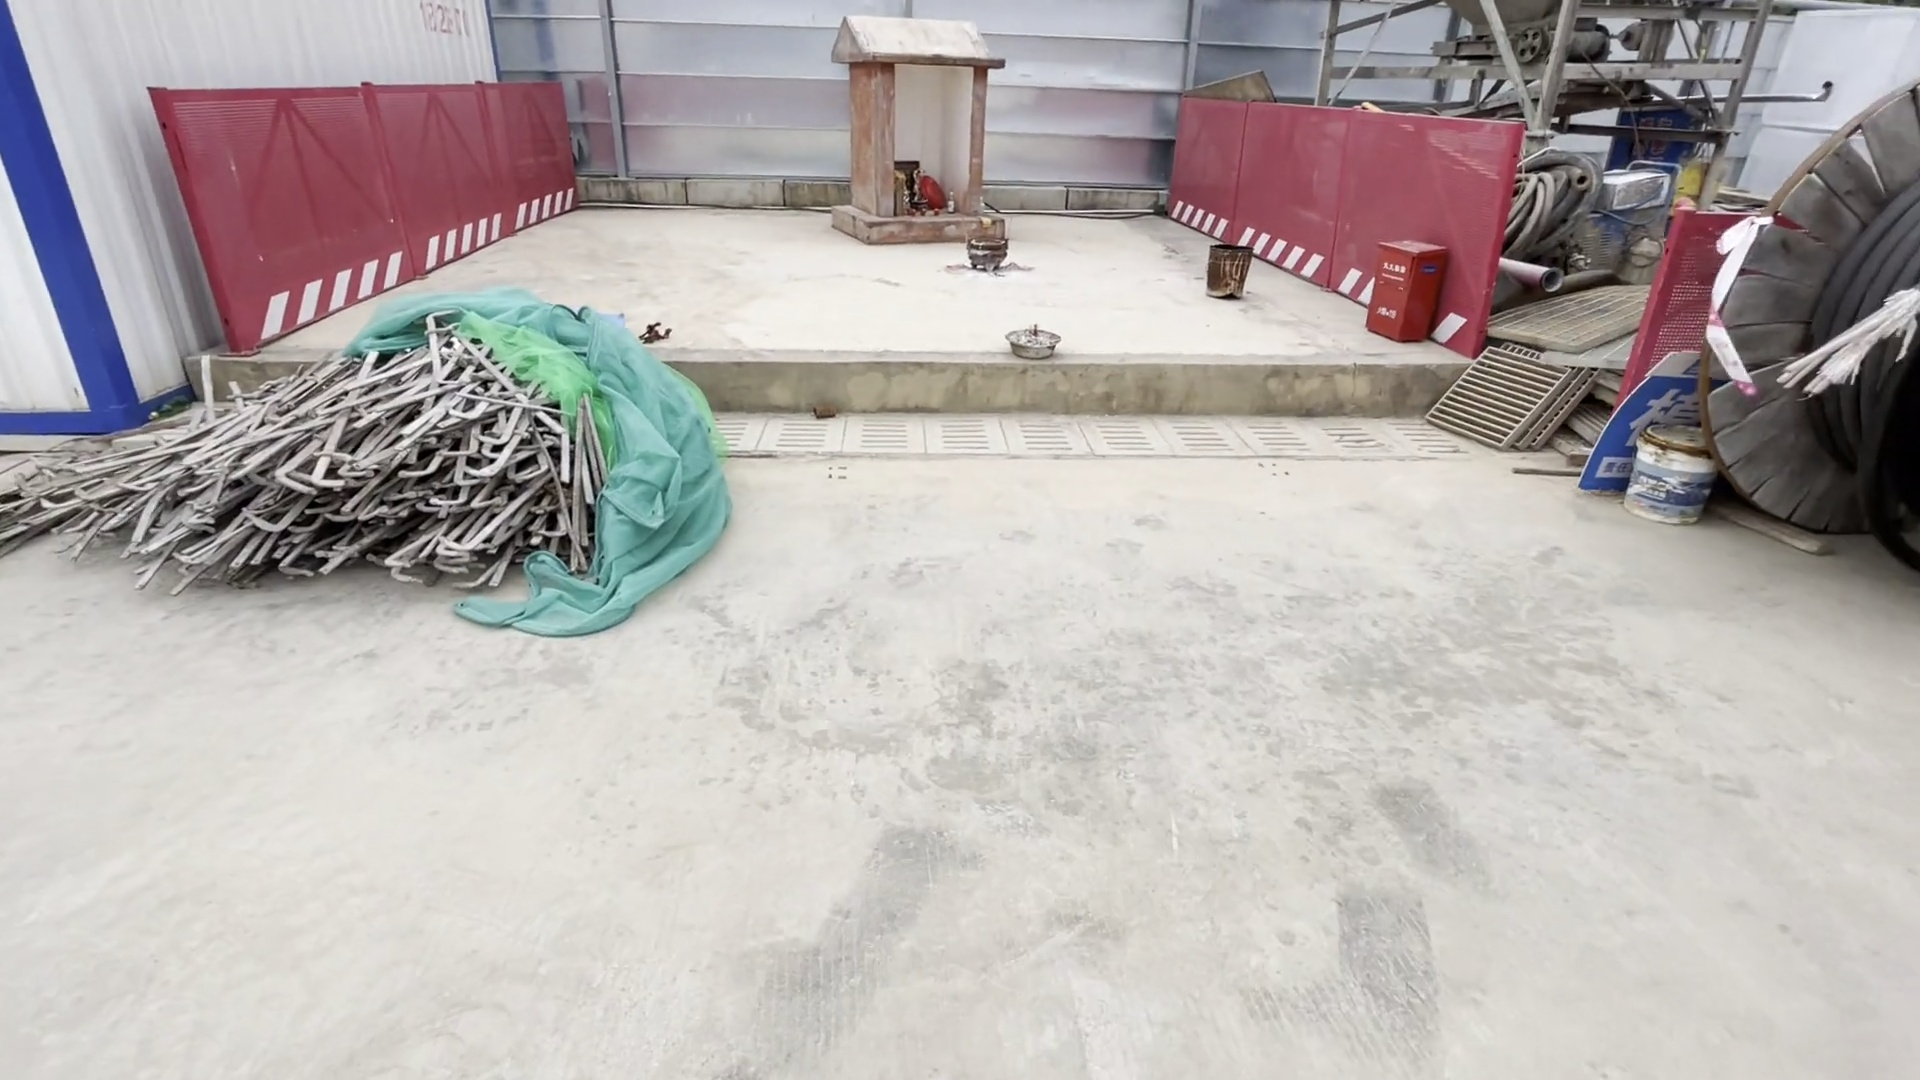fence: (131, 65, 593, 342), (1153, 90, 1536, 388)
